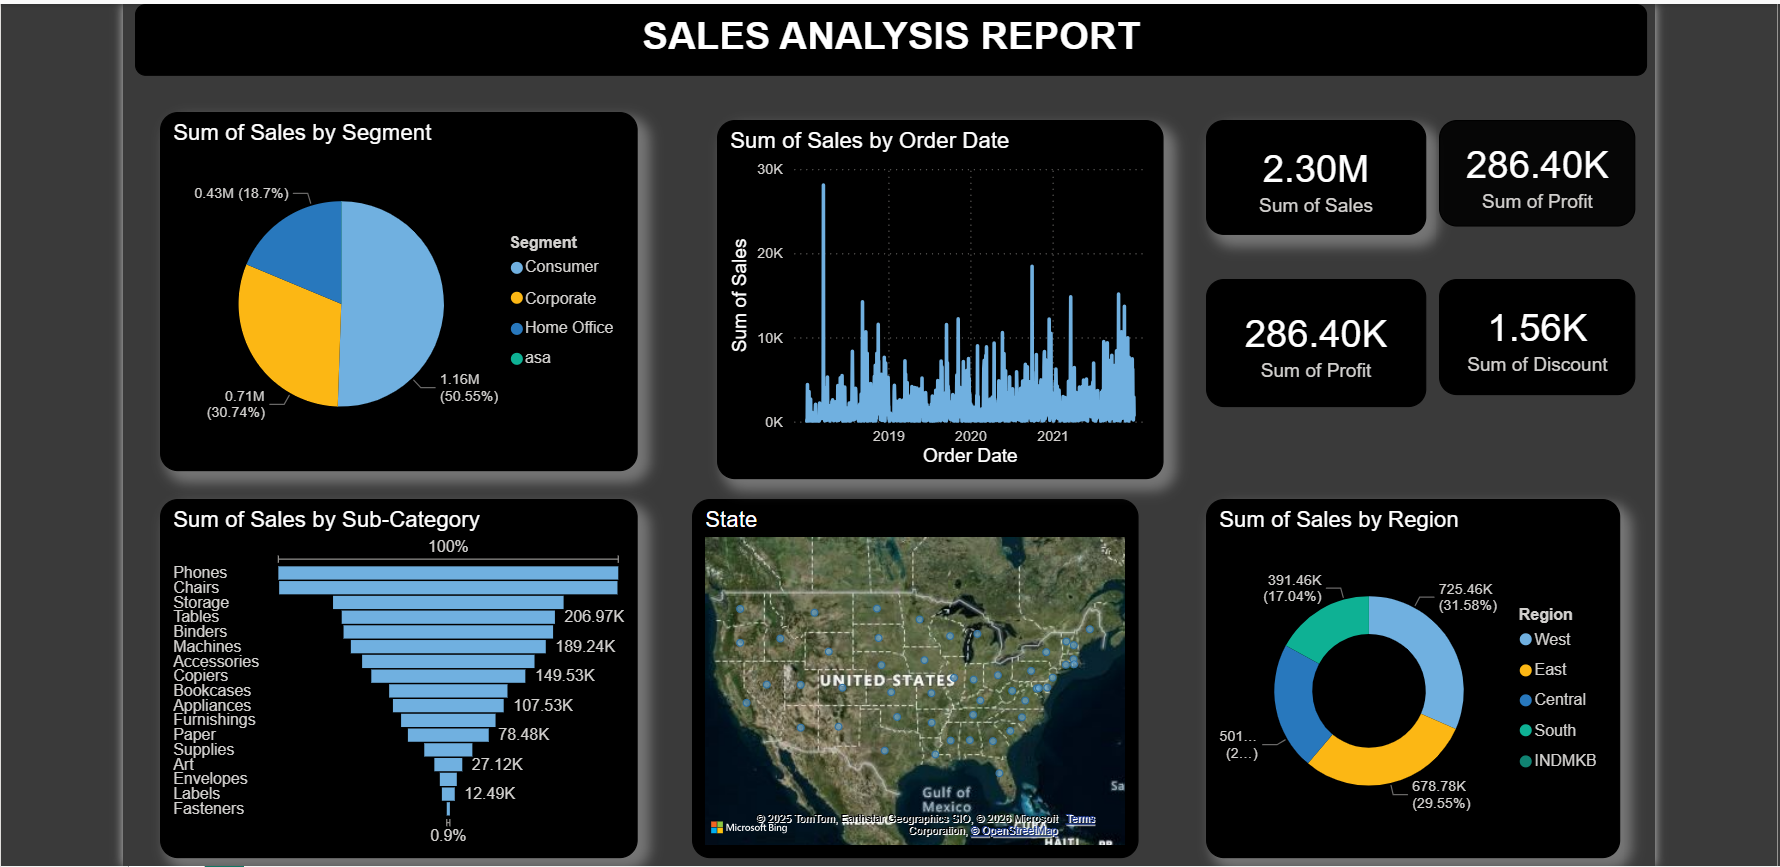

What the dashboard file says about the page in this screenshot:
{"tool":"powerbi","page":{"name":"Page 1","canvas":[1280,720],"ordinal":0},"visuals":[{"type":"map","fields":{"Category":["Orders.State"]},"box":[475.6,413.4,372.5,299.6],"z":0},{"type":"donutChart","fields":{"Category":["Orders.Region"],"Y":["Sum(Orders.Sales)"]},"box":[904.6,413.4,346.3,299.6],"z":1000},{"type":"funnel","fields":{"Category":["Orders.Sub-Category"],"Y":["Sum(Orders.Sales)"]},"box":[31.1,413.4,398.8,299.6],"z":2000},{"type":"pieChart","fields":{"Category":["Orders.Segment"],"Y":["Sum(Orders.Sales)"]},"box":[31.1,90.5,398.8,299.6],"z":3000},{"type":"lineChart","fields":{"Category":["Orders.Order Date"],"Y":["Sum(Orders.Sales)"]},"box":[496.1,96.9,373.4,299.9],"z":4000},{"type":"card","fields":{"Values":["Sum(Orders.Sales)"]},"box":[904.6,97.3,183.8,96.3],"z":5000},{"type":"card","fields":{"Values":["Sum(Orders.Profit)"]},"box":[904.6,229.5,183.8,107],"z":6000},{"type":"card","fields":{"Values":["Sum(Orders.Profit)"]},"box":[1099.1,97.3,164.4,89.5],"z":7000},{"type":"card","fields":{"Values":["Sum(Orders.Discount)"]},"box":[1099.1,229.5,164.4,97.3],"z":8000},{"type":"textbox","box":[9.7,0,1263.5,60.3],"z":9000}]}

Visuals, with their boxes in screenshot pixels (x1, y1, x2, y2):
map - Orders.State: x1=690 y1=491 x2=1132 y2=847
donutChart - Orders.Region x Sum(Orders.Sales): x1=1199 y1=491 x2=1610 y2=847
funnel - Orders.Sub-Category x Sum(Orders.Sales): x1=162 y1=491 x2=636 y2=847
pieChart - Orders.Segment x Sum(Orders.Sales): x1=162 y1=107 x2=636 y2=463
lineChart - Orders.Order Date x Sum(Orders.Sales): x1=714 y1=115 x2=1157 y2=471
card - Sum(Orders.Sales): x1=1199 y1=116 x2=1417 y2=230
card - Sum(Orders.Profit): x1=1199 y1=272 x2=1417 y2=400
card - Sum(Orders.Profit): x1=1430 y1=116 x2=1625 y2=222
card - Sum(Orders.Discount): x1=1430 y1=272 x2=1625 y2=388
textbox: x1=137 y1=0 x2=1637 y2=72
